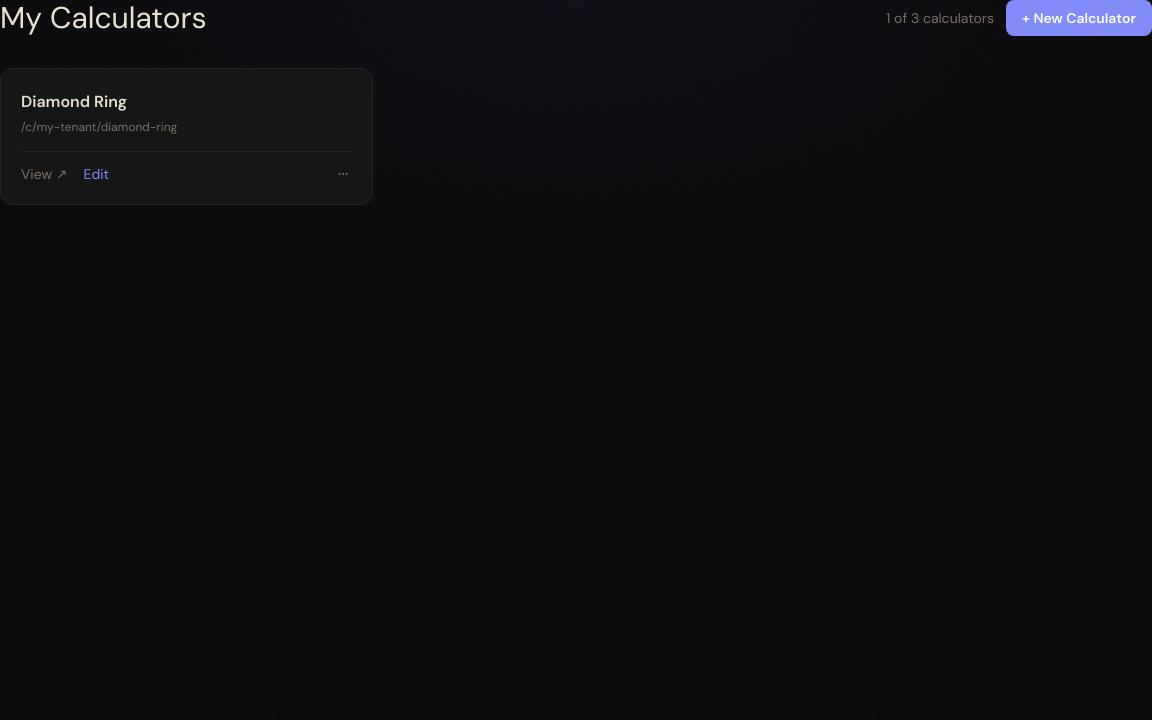
Dashboard › shows confirmation dialog when delete button clicked
The width and height of the screenshot is (1152, 720).
Click the button named "more actions" at point(343, 174), box [334, 165, 352, 183]
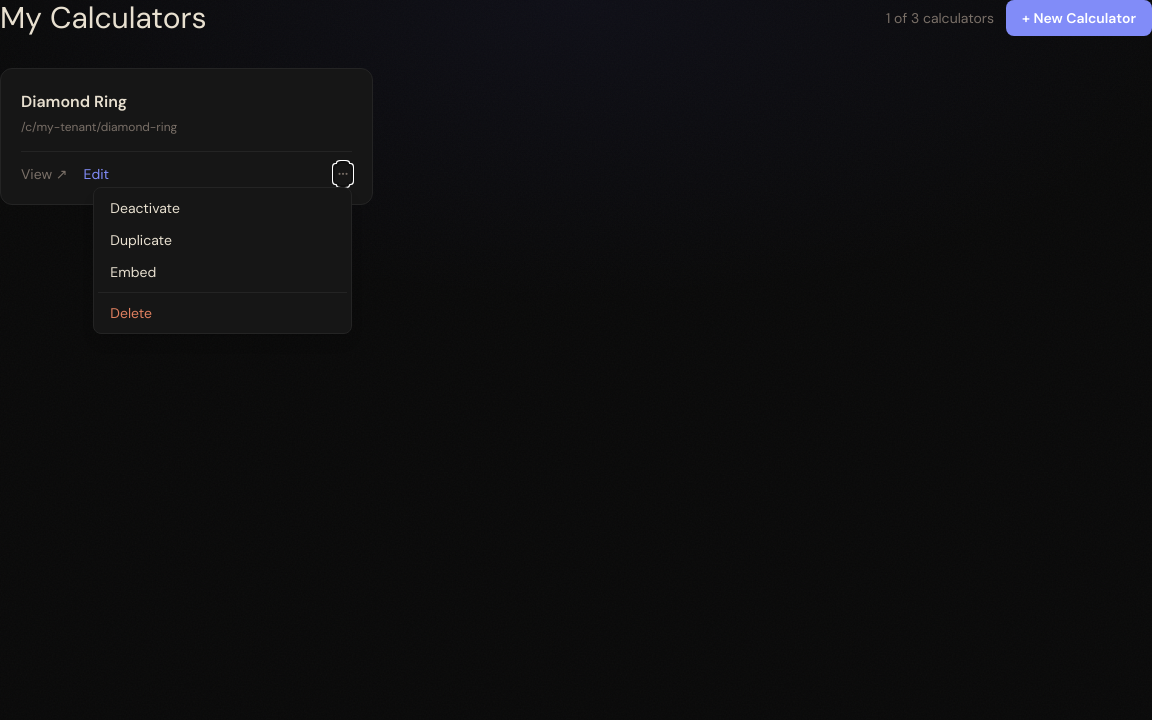
Click the button "Delete" at point(223, 313), box [98, 297, 347, 329]
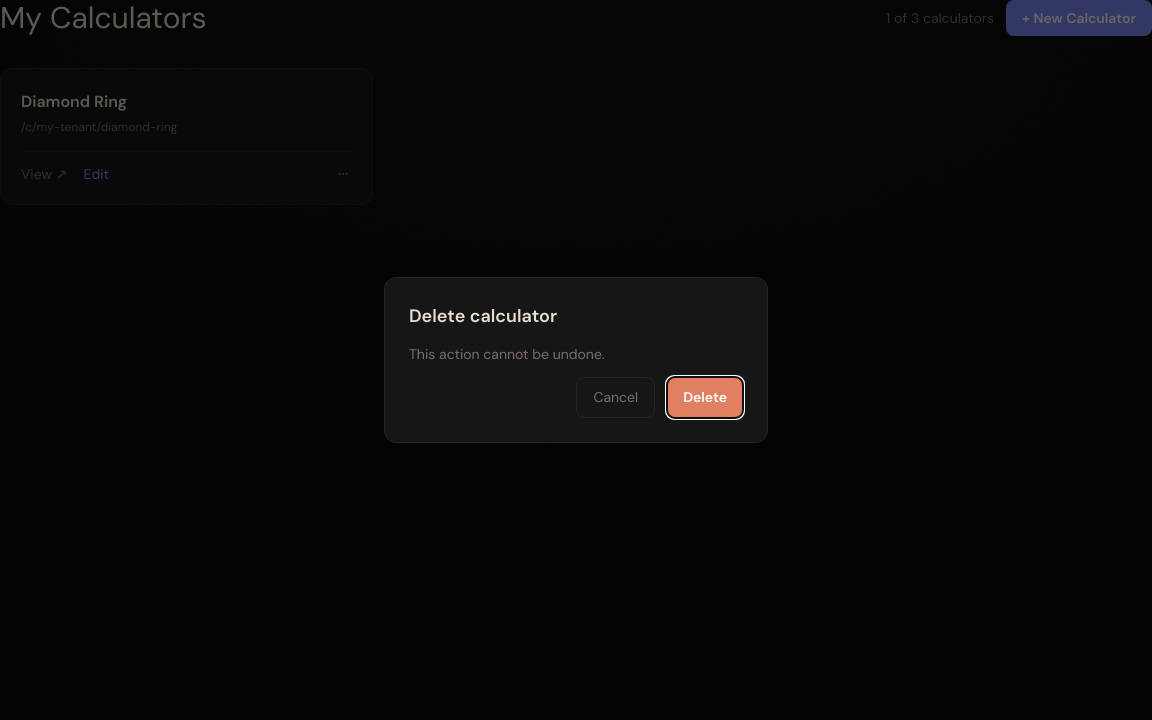
Check: the dialog is shown, box [384, 277, 768, 443]
Check: the text "This action cannot be undone." is shown, box [409, 345, 605, 363]
